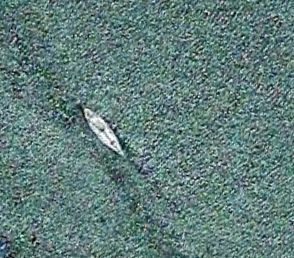boat: (83, 108, 127, 158)
